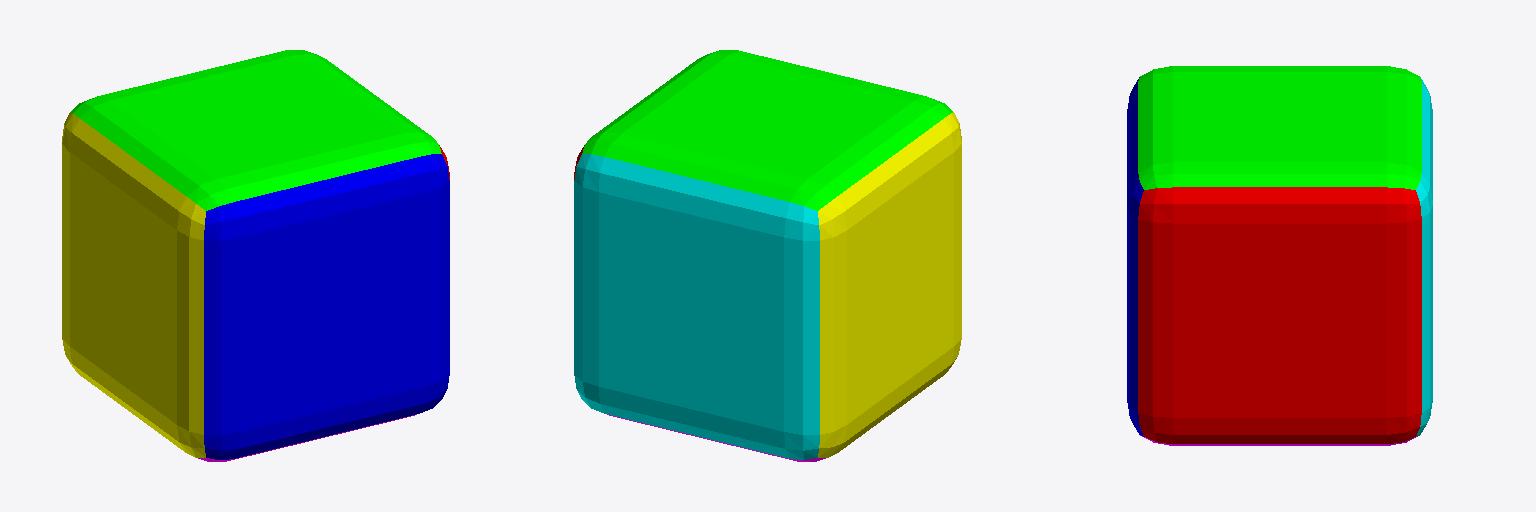
File: robotBlockPicking.obj
3 renders of one model, left to right at view 1: azimuth 30°, elevation 25°; view 2: azimuth 150°, elevation 25°; view 3: azimuth 270°, elevation 25°, orthographic.
Parts seen in each view (by area): view 1: RB; view 2: RB; view 3: RB.
Boxes of the visible parts, box(x1,y1,x2,y2) form: RB: box(62, 50, 449, 461); RB: box(574, 50, 961, 461); RB: box(1127, 66, 1432, 445).
Size of the model in its own units: 10 by 10 by 10.